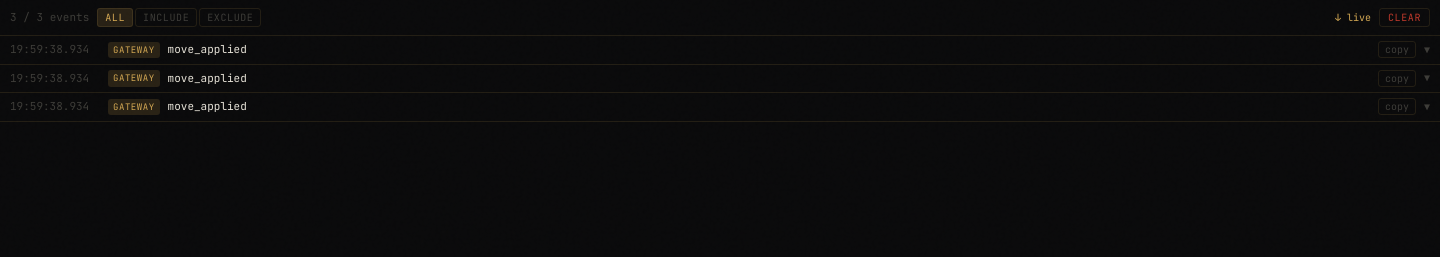
Test: WsDevtools › expanding one row does not expand others
Click the button with test id "event-summary" that starts with "gateway" at [50, 78], box [0,65,1439,92]
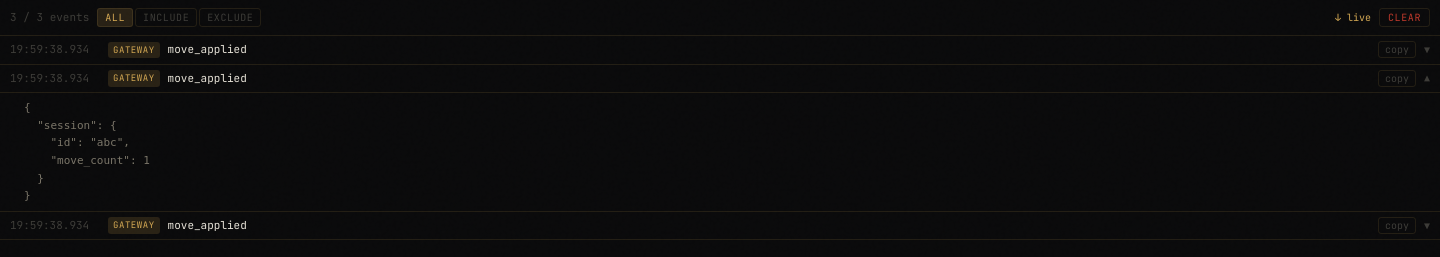
Result: the number of elements with test id "event-payload" is 1 at [24,101,150,202]
